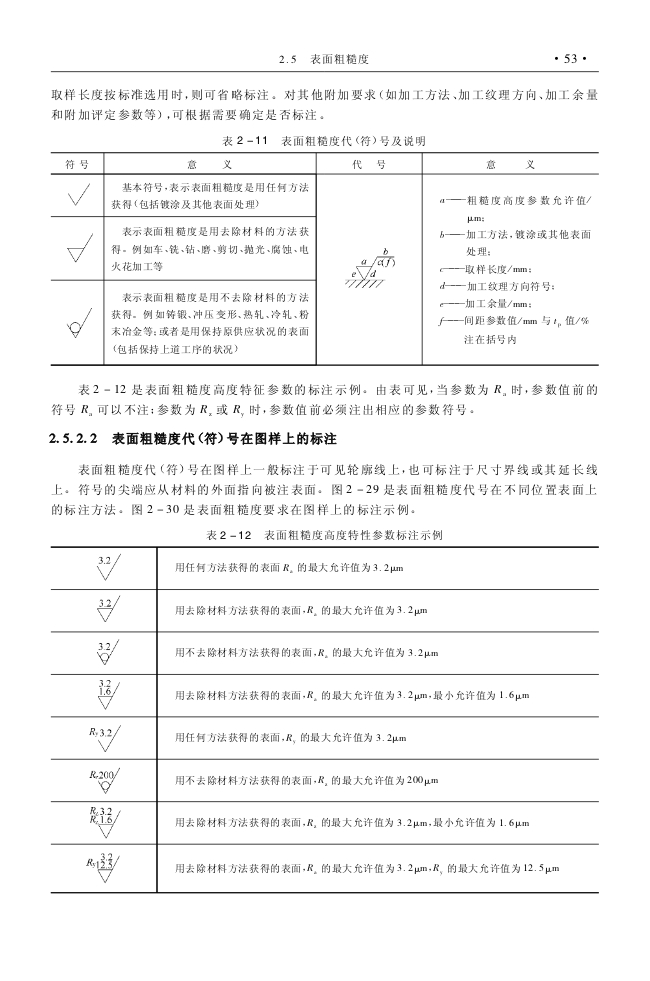table: (50, 546, 599, 894), (50, 152, 599, 366)
